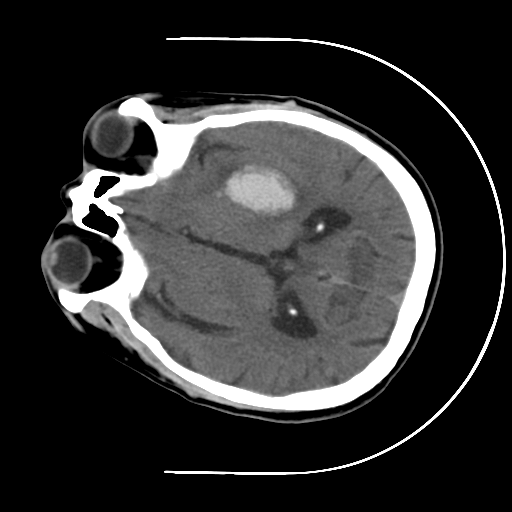a: (200, 153, 315, 230)
